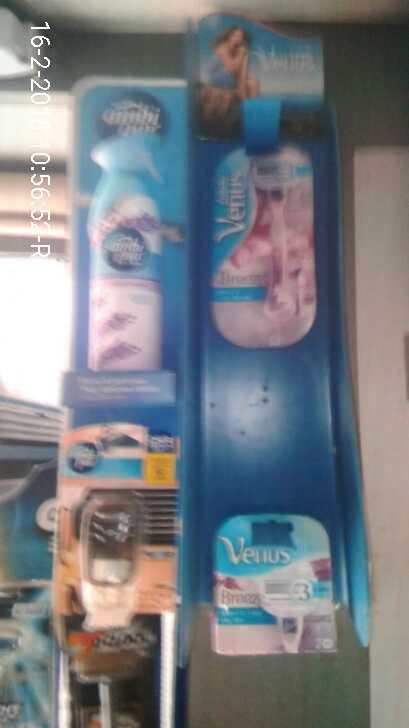beauty: (211, 139, 324, 346), (209, 517, 333, 661)
home: (83, 118, 175, 367), (60, 469, 156, 672)
